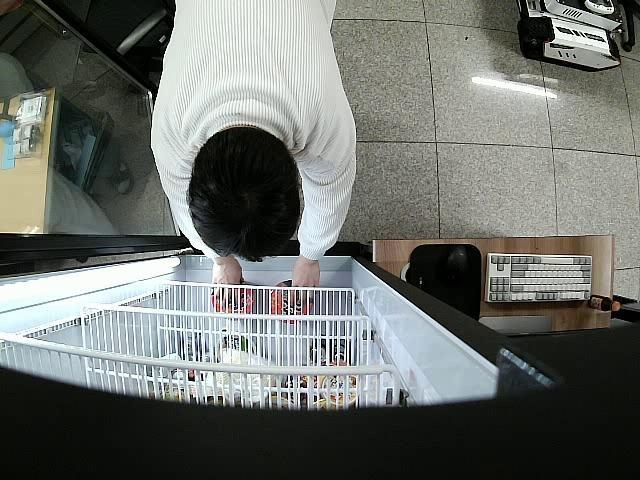01_ShinRamen_L: (269, 280, 315, 325), (212, 284, 254, 314)
